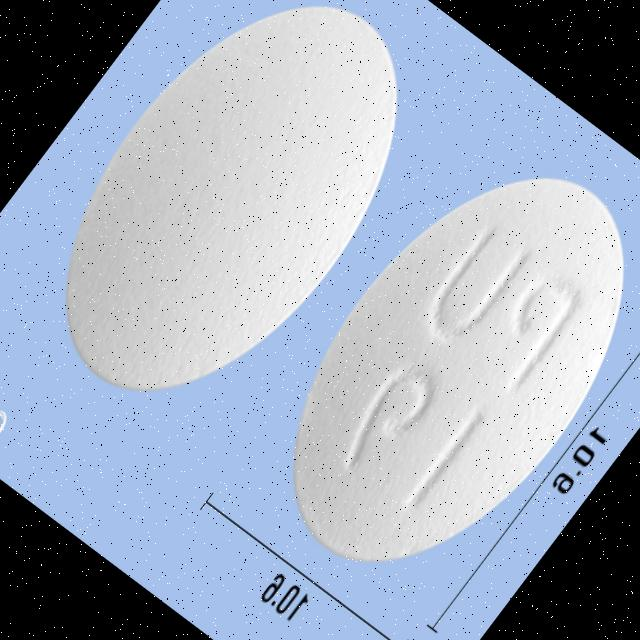Flori: (226, 115, 640, 621), (0, 0, 461, 452)
